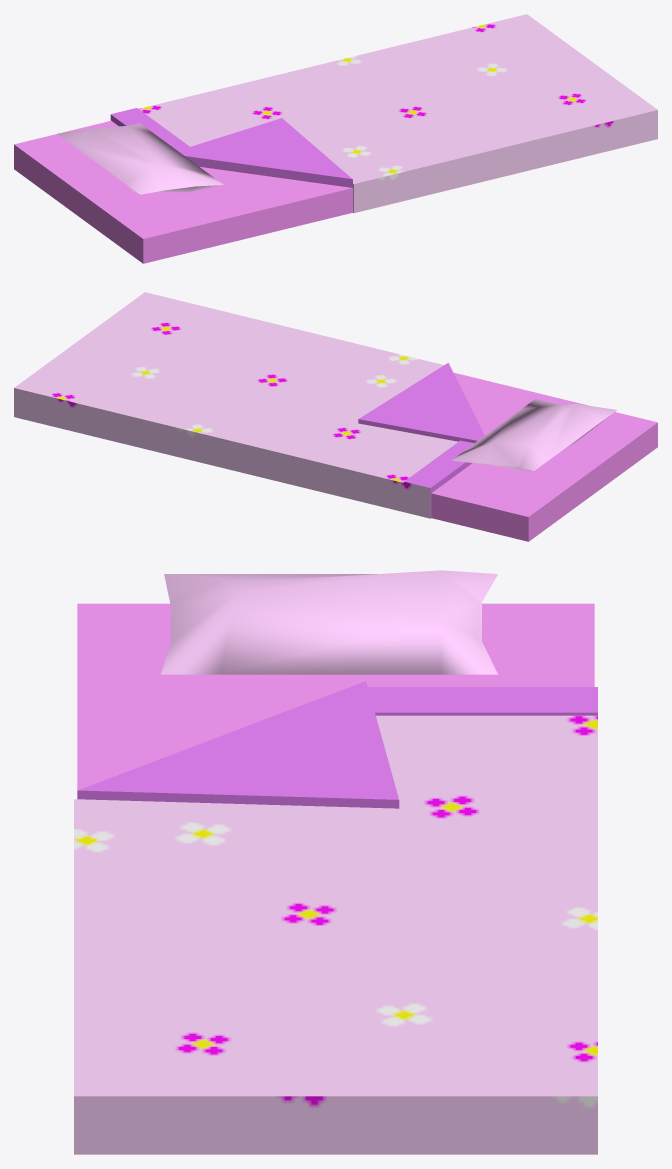
The picture shows the model from 3 angles, top to bottom: view 1: azimuth 30°, elevation 25°; view 2: azimuth 150°, elevation 25°; view 3: azimuth 270°, elevation 25°; orthographic projection. The views are drawn at different scales.
Visible parts, largest first — view 1: SketchUp (×3), ske11; view 2: SketchUp (×3), ske11; view 3: SketchUp (×3), ske11.
Boxes of the visible parts, x1,y1,x2,y2 form: SketchUp (×3): (14, 14, 657, 263); ske11: (57, 123, 223, 194); SketchUp (×3): (14, 292, 657, 541); ske11: (451, 399, 616, 470); SketchUp (×3): (74, 603, 597, 1154); ske11: (160, 570, 497, 674).
Bounding box in the file's own units: 92.19 × 40.69 × 10.23.
Materials: 4 (1 with a texture image).
